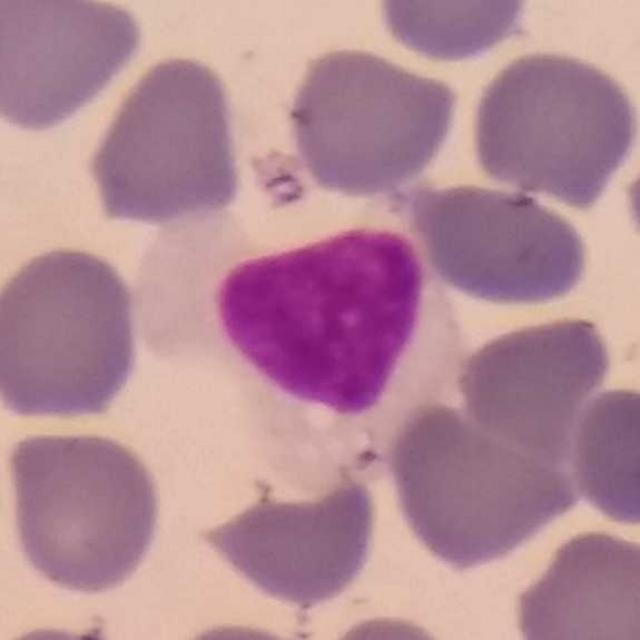Lymphocyte: (134, 193, 474, 474)
RBC: (382, 396, 579, 573), (82, 48, 248, 230), (1, 422, 168, 600), (279, 40, 463, 198), (465, 44, 640, 210), (191, 466, 384, 609), (0, 239, 147, 426), (408, 178, 594, 312), (452, 309, 618, 446), (0, 0, 149, 136), (507, 523, 640, 640), (565, 381, 640, 532), (370, 0, 536, 66), (304, 609, 472, 640), (144, 615, 329, 640), (0, 616, 139, 640), (621, 144, 640, 256)
